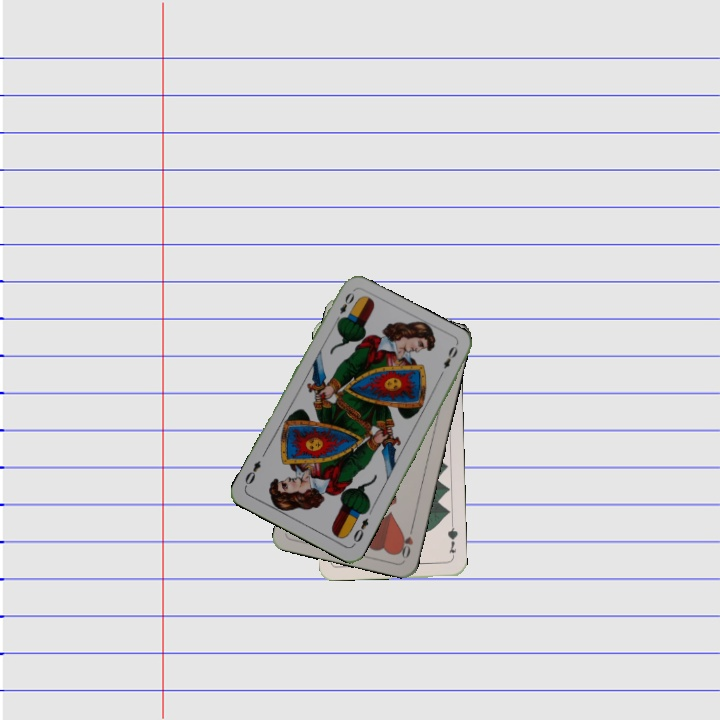EO: (331, 288, 357, 326), (349, 514, 371, 548)
G7: (443, 520, 460, 561)
HO: (396, 522, 416, 561)
